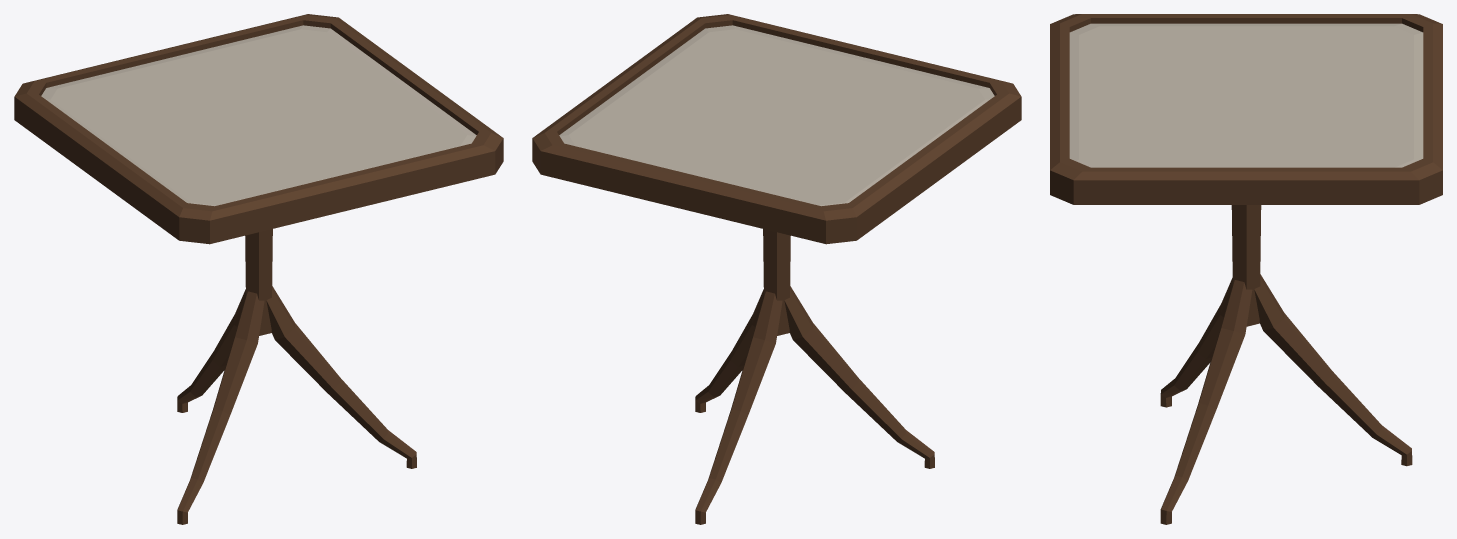
The model's file is side-table-2ea5c0.glb.
3 renders of one model, left to right at view 1: azimuth 30°, elevation 25°; view 2: azimuth 150°, elevation 25°; view 3: azimuth 270°, elevation 25°, orthographic. The views are drawn at different scales.
Parts seen in each view (by area): view 1: side-table-body; view 2: side-table-body; view 3: side-table-body.
Part boxes in pixels (x1,y1,x2,y2): side-table-body: [14, 14, 503, 524]; side-table-body: [532, 14, 1021, 524]; side-table-body: [1050, 14, 1442, 524].
Bounding box in the file's own units: 0.49 × 0.51 × 0.49.
